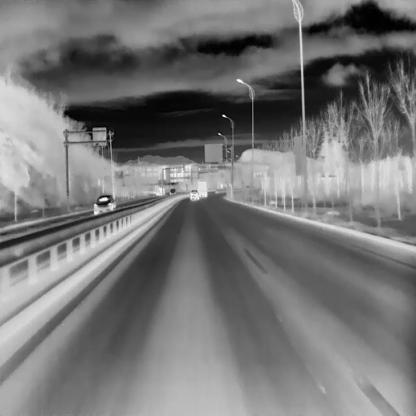car: (93, 194, 115, 215), (189, 189, 199, 200), (169, 187, 175, 194)
truck: (198, 181, 206, 197)
